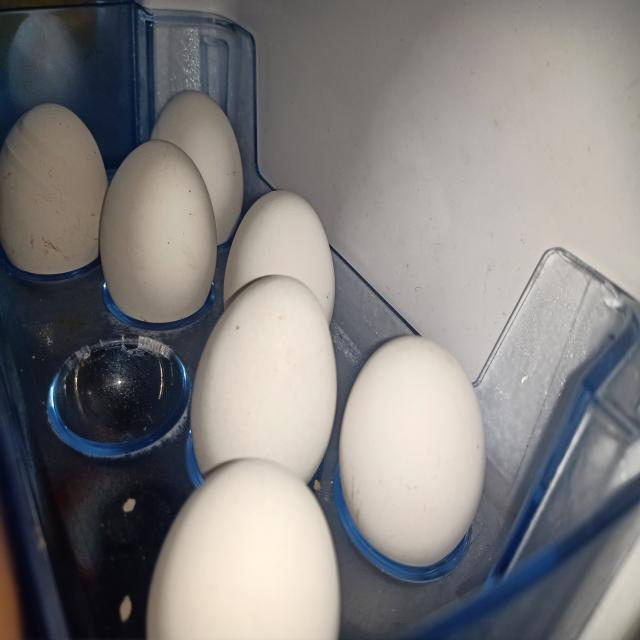Egg: (334, 336, 486, 582), (146, 459, 340, 640), (190, 275, 337, 483), (99, 139, 217, 323), (0, 102, 107, 274), (223, 190, 335, 324), (151, 90, 243, 244)
